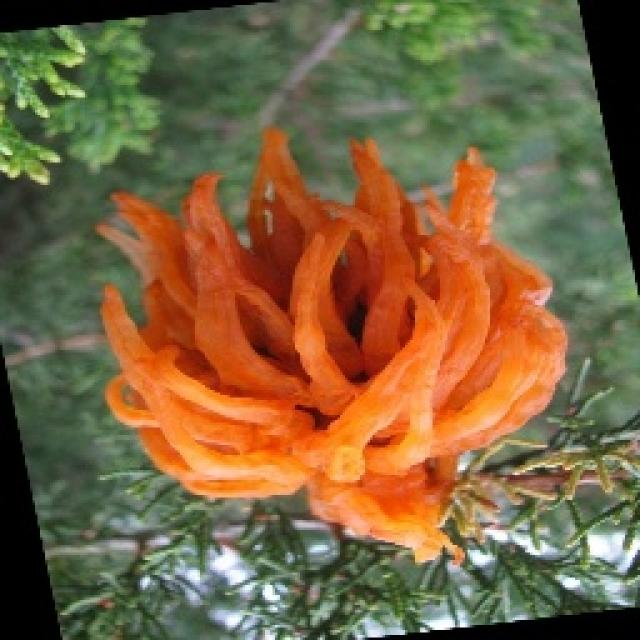Gymnosporangium_Rusts: (92, 123, 570, 565)
